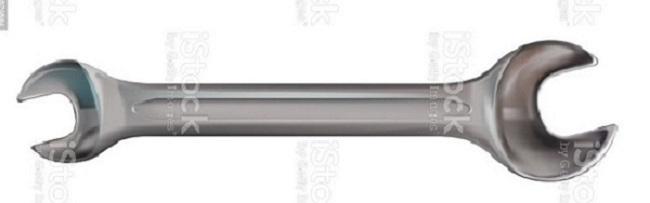Job: (5, 33, 649, 197)
